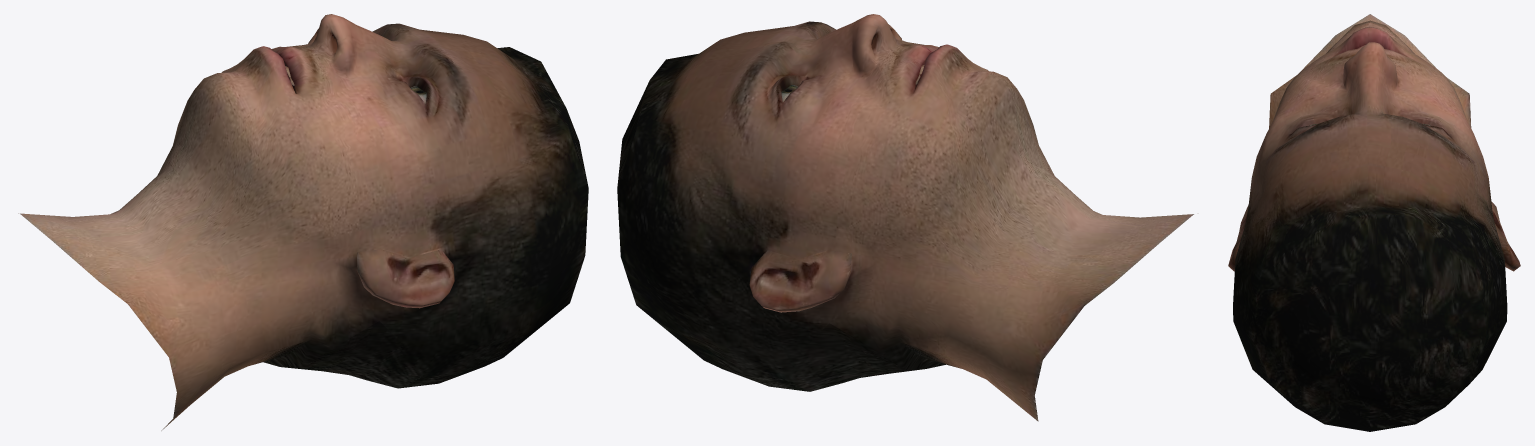
The model's file is head_us_ranger_frank.glb.
The picture shows the model from 3 angles, left to right: view 1: azimuth 30°, elevation 25°; view 2: azimuth 150°, elevation 25°; view 3: azimuth 270°, elevation 25°; orthographic projection. The views are drawn at different scales.
Bounding box in the file's own units: 14.92 × 9.88 × 7.72.
Materials: 1 (1 with a texture image).
